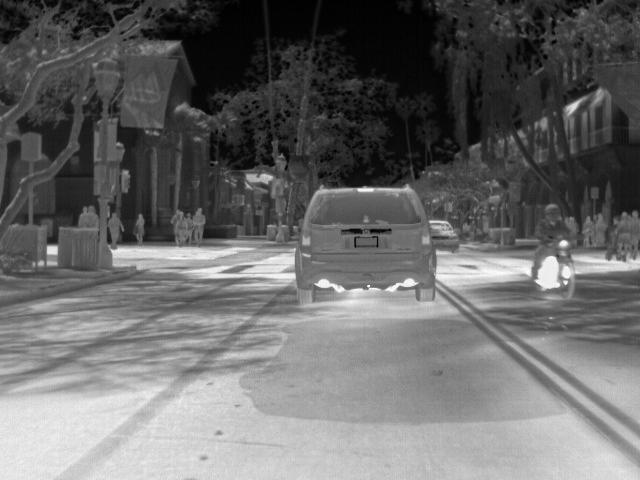car: (292, 181, 438, 306), (431, 218, 461, 255)
person: (533, 207, 570, 288), (108, 213, 127, 246), (168, 207, 183, 245), (579, 213, 595, 248), (179, 212, 195, 246), (132, 212, 148, 244), (193, 208, 206, 244), (593, 213, 606, 248), (566, 214, 581, 242), (78, 205, 91, 230), (86, 205, 99, 227)
